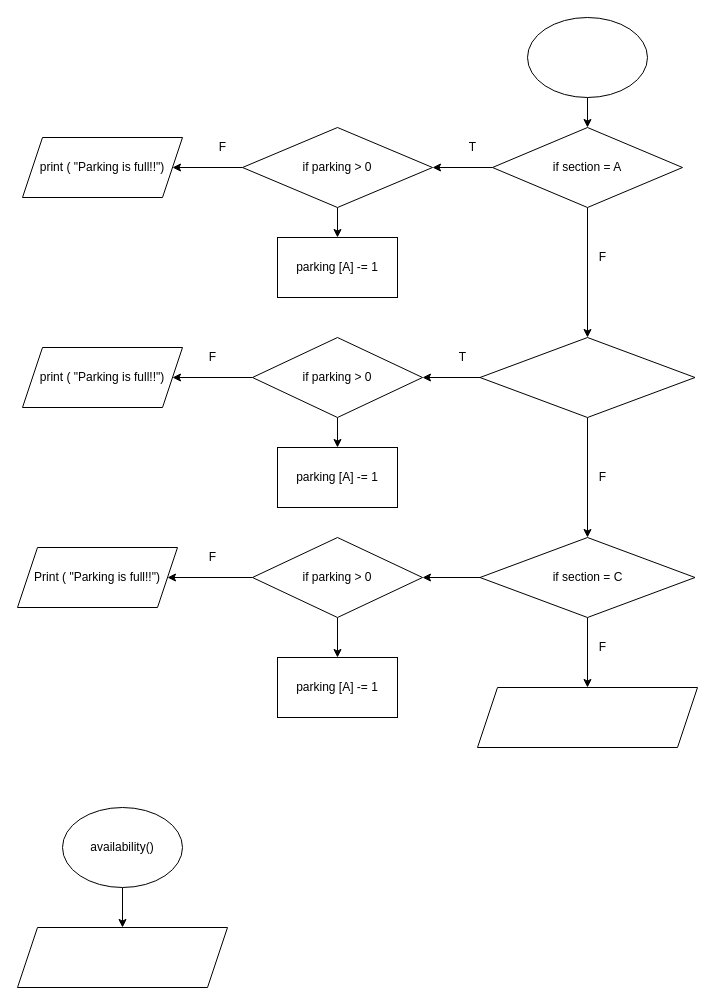
Some shapes in this 715 by 1005 pixel diagram are drawn without their labels. Each missing label, with the centre of its shape:
if section = B: point 587,377
print ( "Wrong Input" ): point 587,717
print("----Parking Available----"): point 122,957
user.Enter (section): point 587,57
